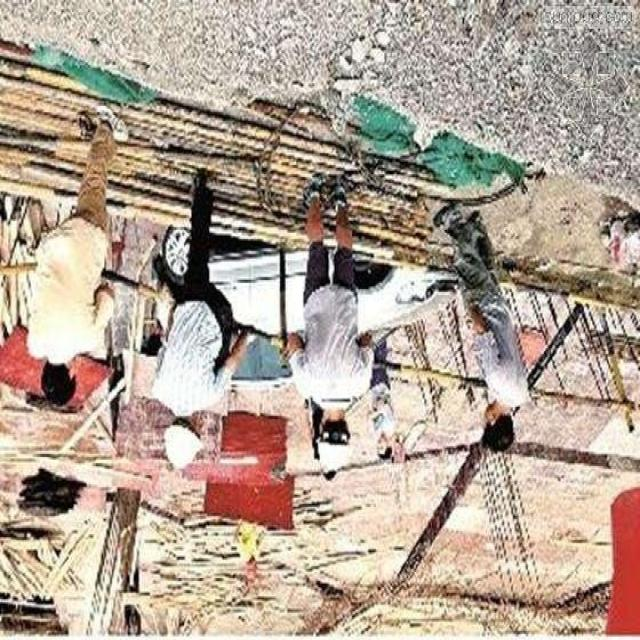helmet: (157, 425, 207, 473), (315, 431, 354, 471)
